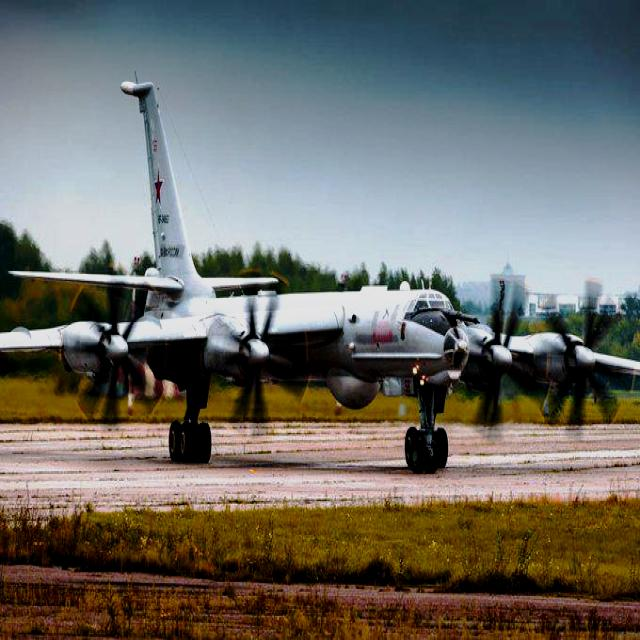Aircraft: (2, 78, 637, 477)
